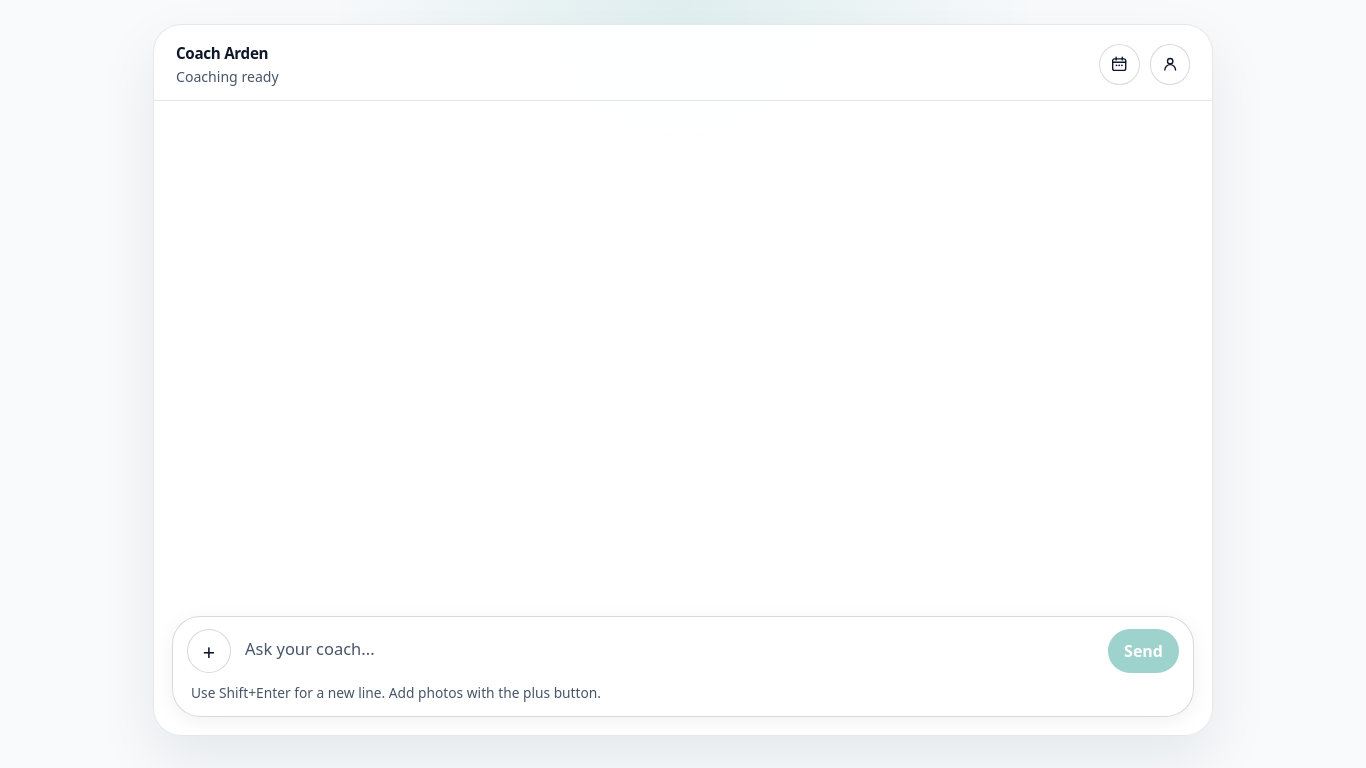
Test case: CoachChat message sending › replaces a failed-send error with sign-in guidance when the session expired
Type "Keep this draft safe." into the text box with placeholder "Ask your coach..." at point(670, 651), box [243,629,1096,673]
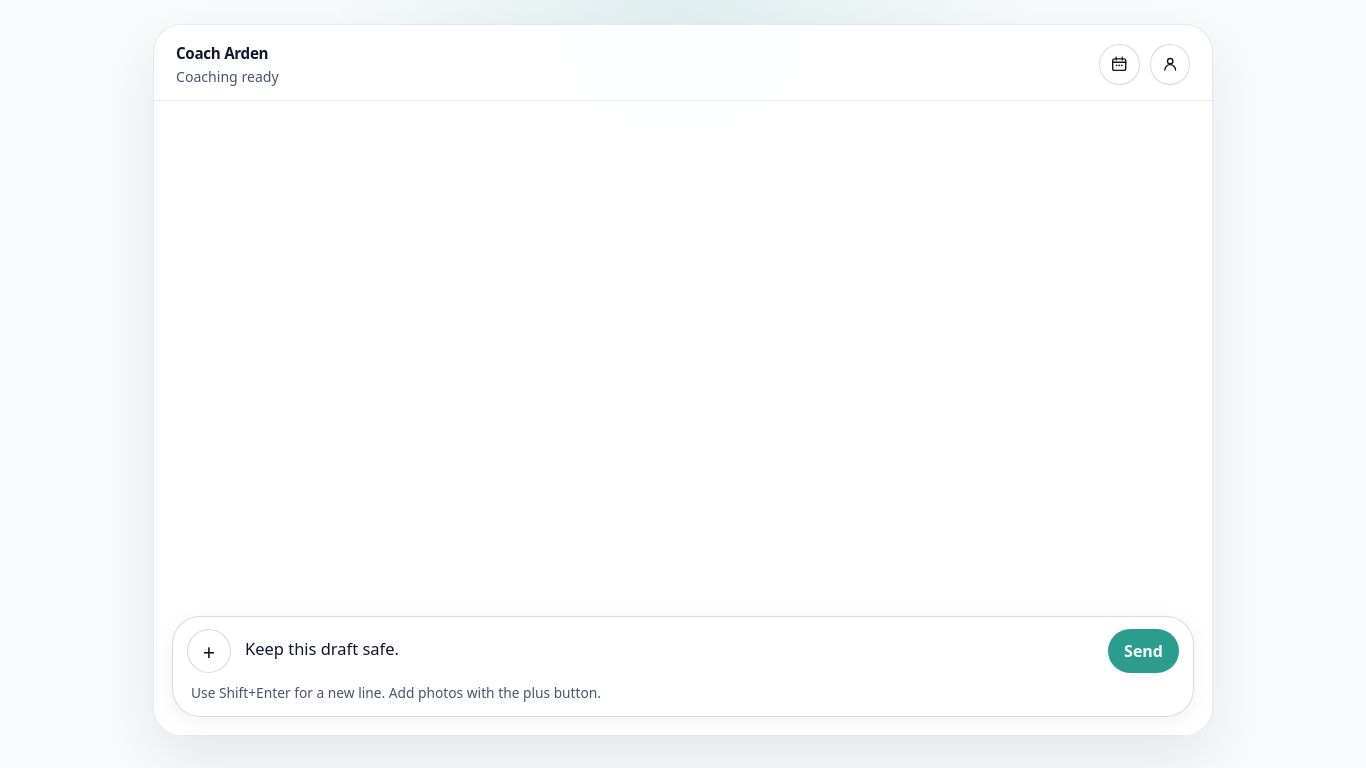
Click the button "Send" at point(1144, 651), box [1108,629,1179,673]
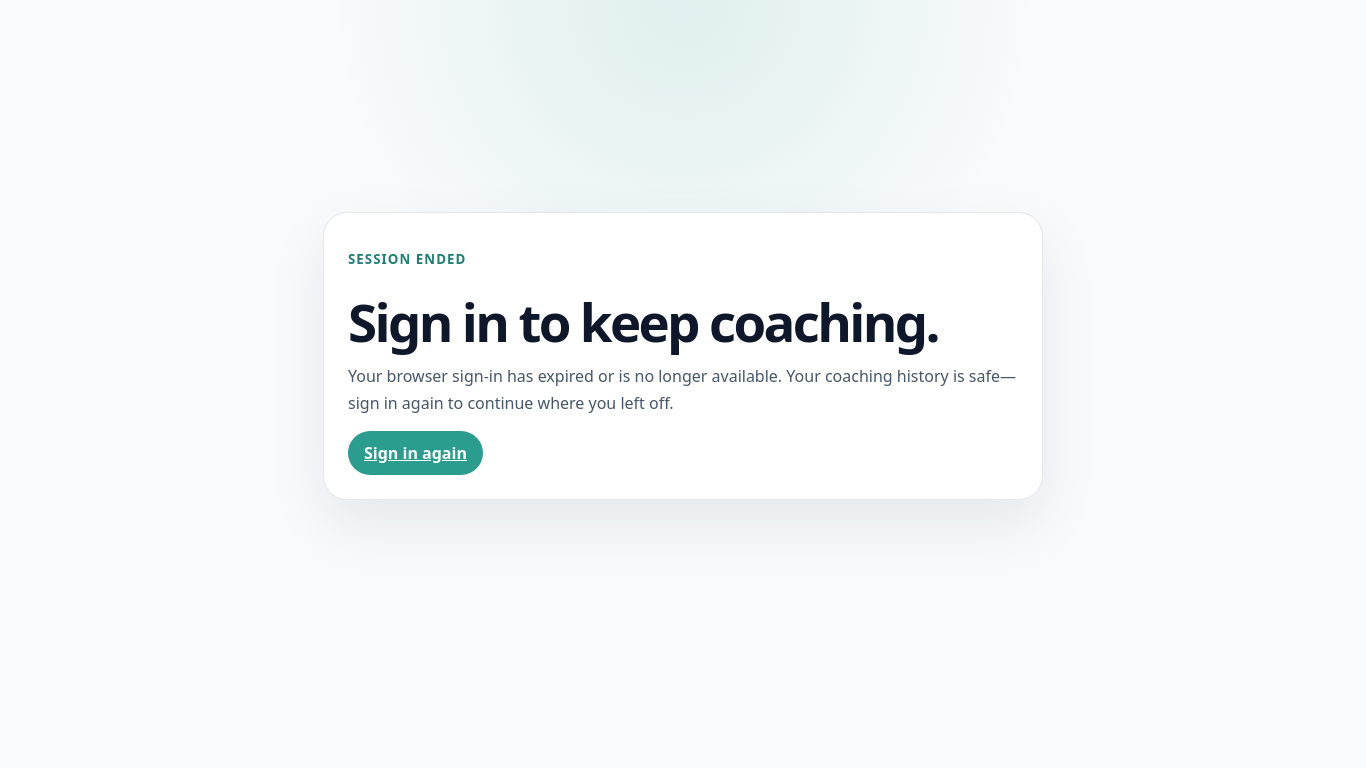
expect the heading "Sign in to keep coaching." is shown: met, box [348,295,1018,349]
expect the link "Sign in again" is shown: met, box [348,431,483,475]
